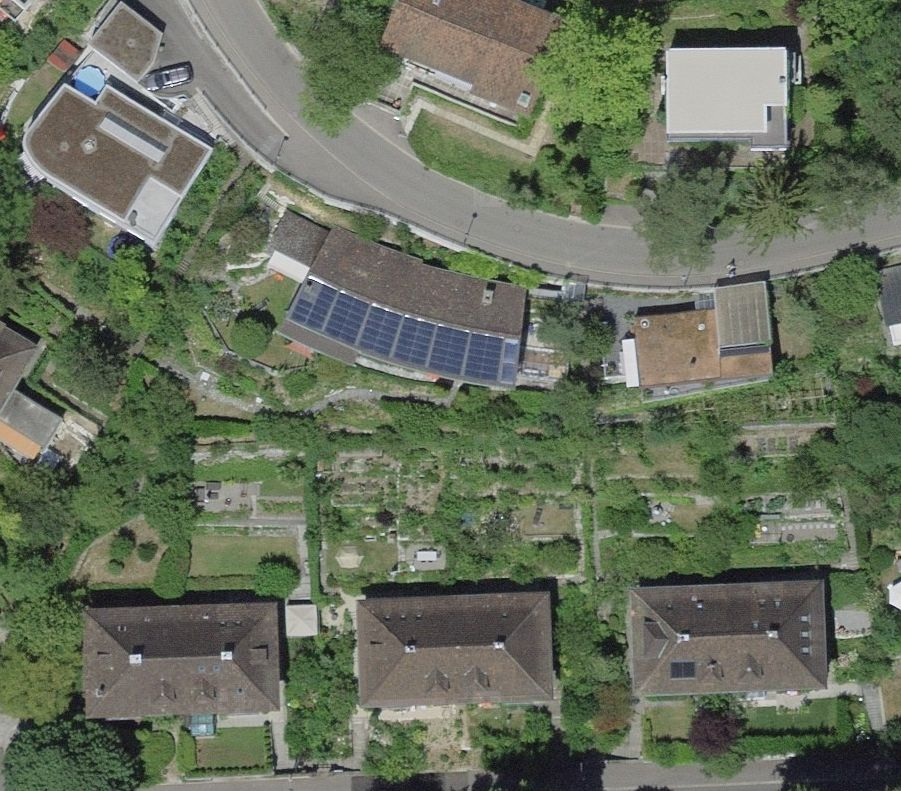solar: (290, 282, 522, 391), (658, 650, 704, 693)
